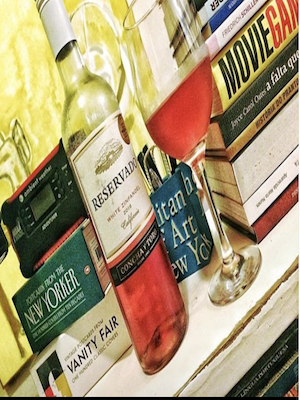reservado white zinfandel: (42, 35, 197, 375)
